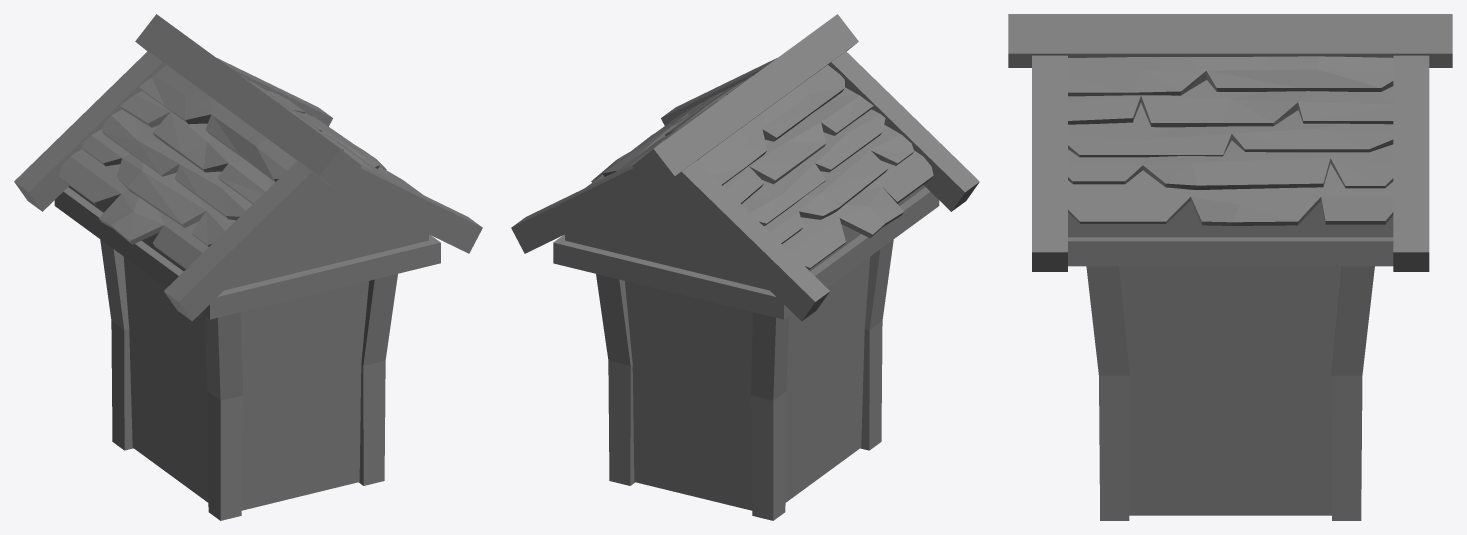
File: building.fbx
3 renders of one model, left to right at view 1: azimuth 30°, elevation 25°; view 2: azimuth 150°, elevation 25°; view 3: azimuth 270°, elevation 25°, orthographic. The views are drawn at different scales.
Visible parts, largest first — view 1: default; view 2: default; view 3: default.
Part boxes in pixels (x1,y1,x2,y2): default: [14, 14, 482, 520]; default: [511, 14, 979, 520]; default: [1008, 14, 1452, 520].
Size of the model in its own units: 1103 by 1316 by 1156.
